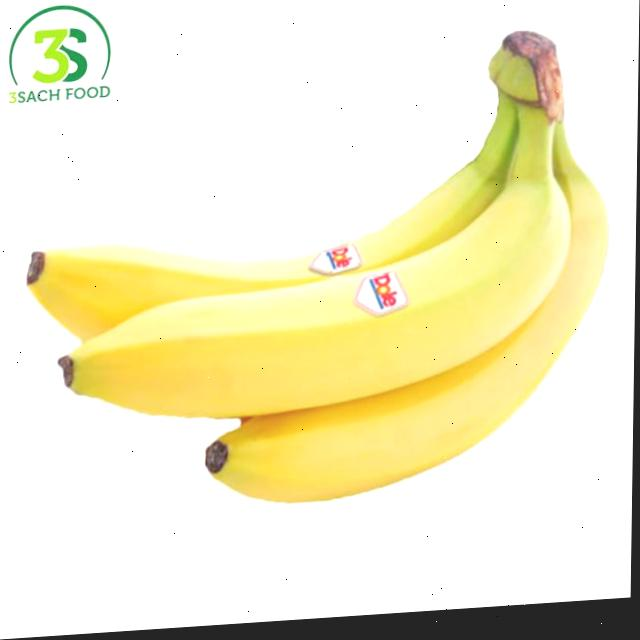banana: (27, 12, 619, 577)
